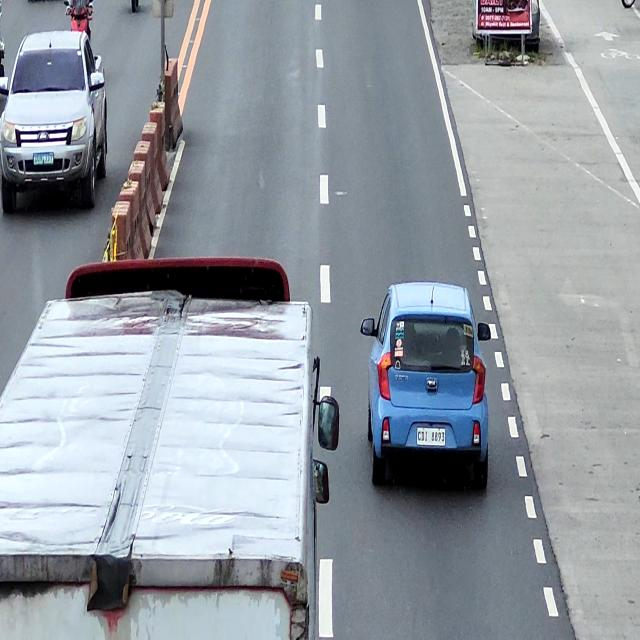Car: (361, 281, 491, 492), (0, 30, 110, 211)
License-Plate: (416, 427, 446, 445), (33, 153, 54, 165)
Motorcycle: (64, 0, 93, 40)
Truck: (0, 258, 340, 640)
